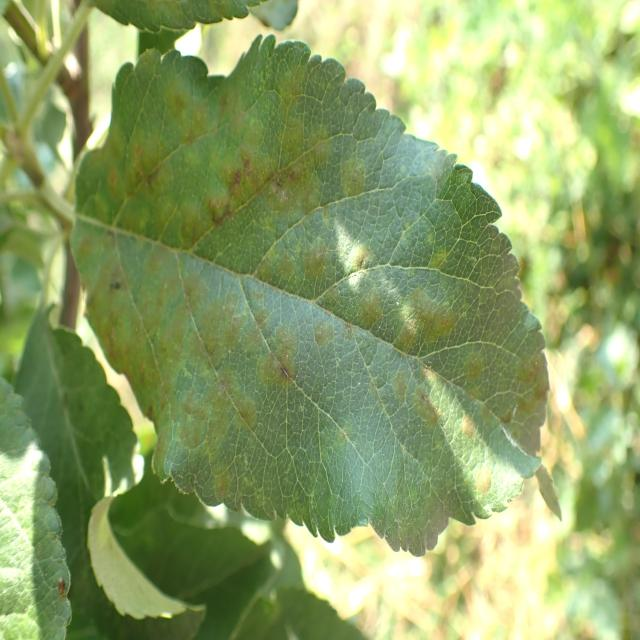scab: (61, 49, 545, 500)
